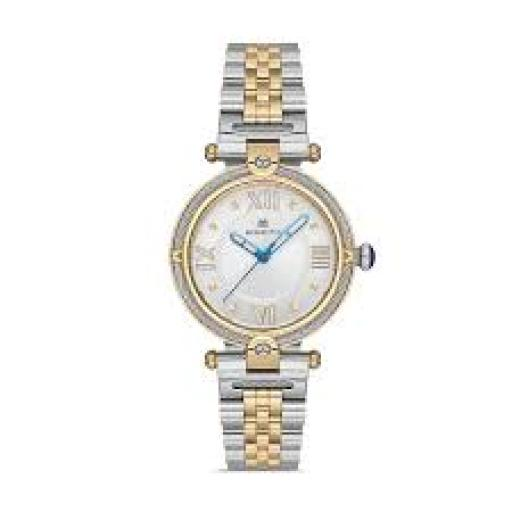KolSaati: (172, 25, 380, 496)
